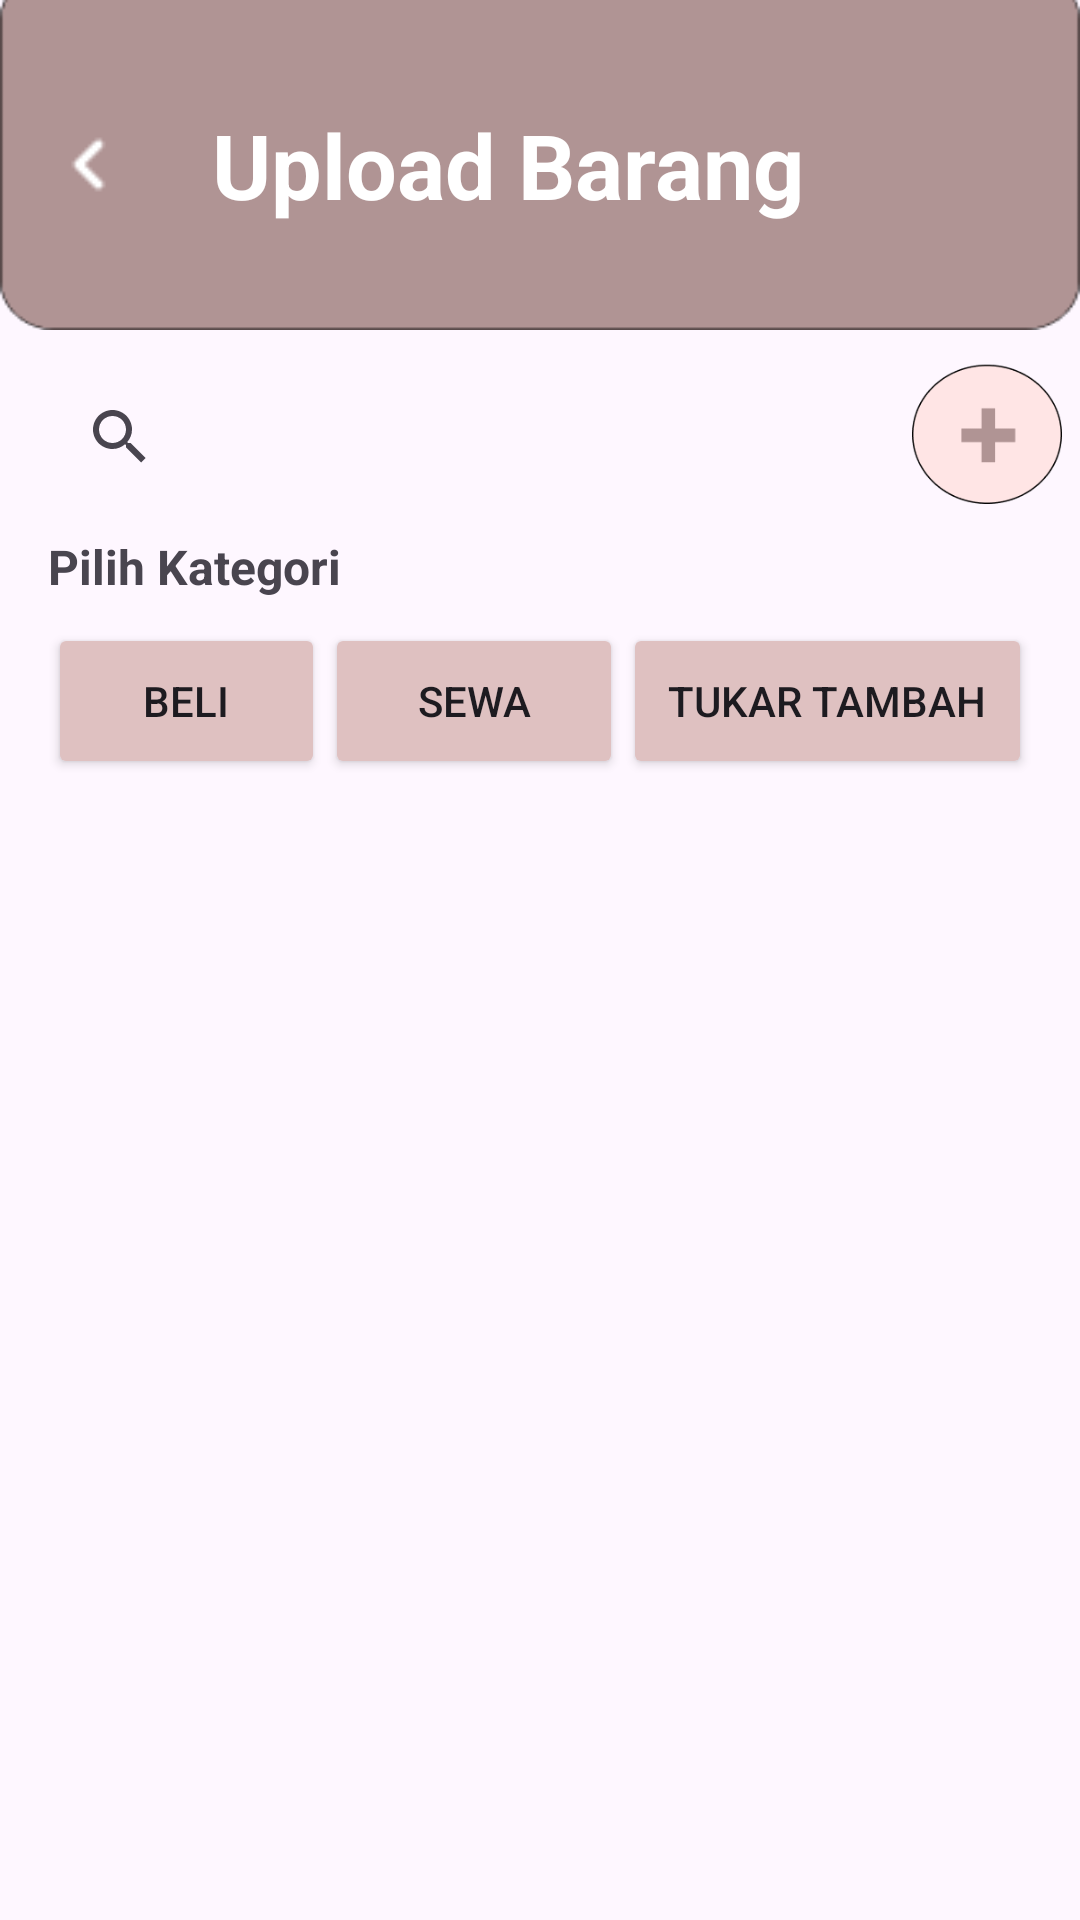

Icon click points for this 1080 × 1920 phone screenshot, format point (x, y):
panahkiri: point (88, 164)
tambahupbarang: point (987, 434)
